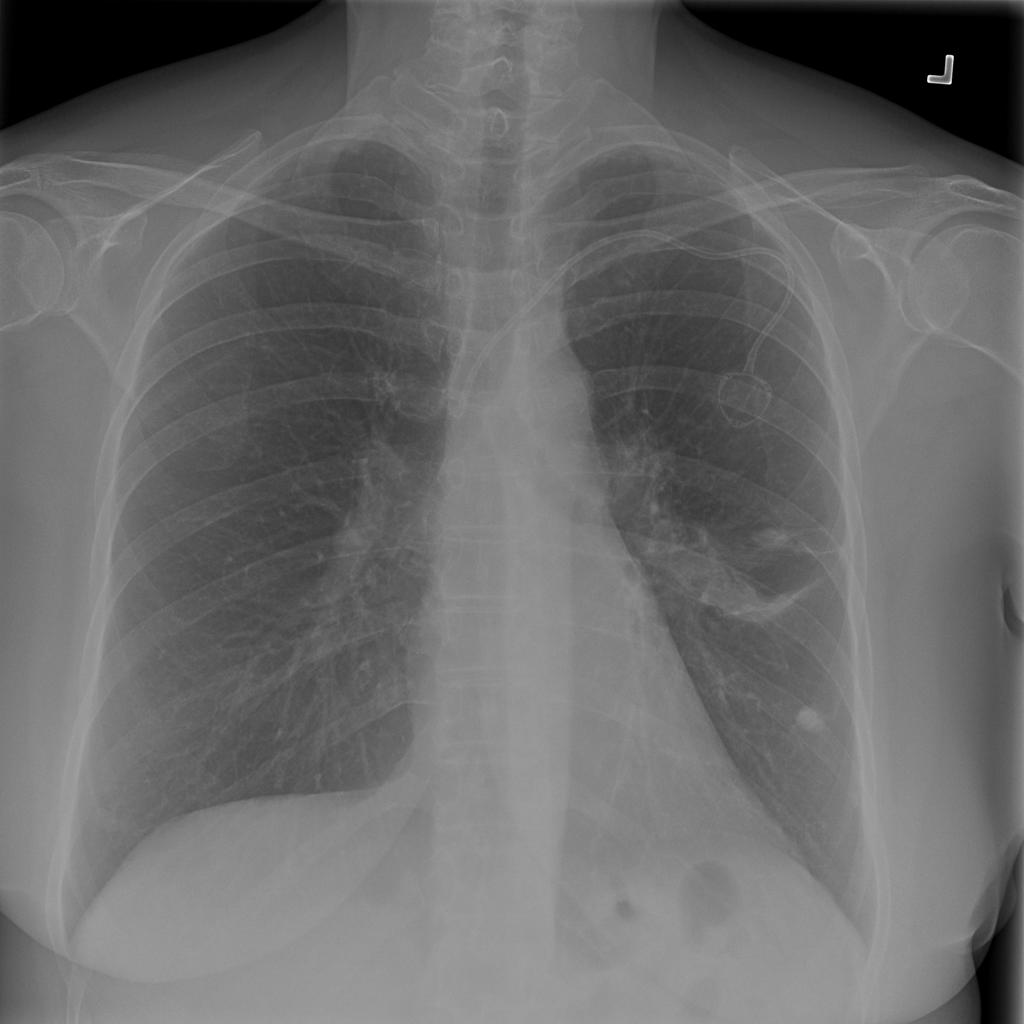nodule: (786, 695, 837, 744)
